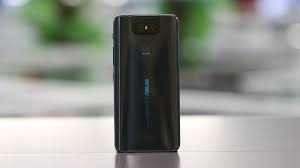asus: (111, 13, 179, 154)
